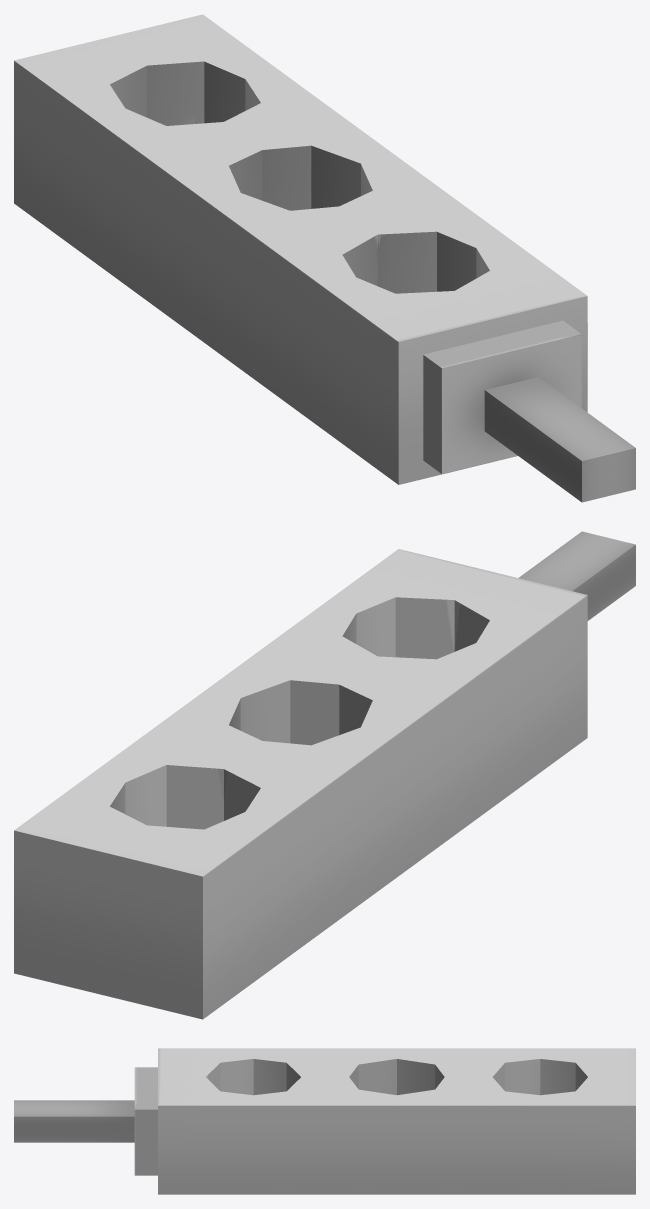
File: Multitap0.FBX
The picture shows the model from 3 angles, top to bottom: view 1: azimuth 30°, elevation 25°; view 2: azimuth 150°, elevation 25°; view 3: azimuth 270°, elevation 25°; orthographic projection. The views are drawn at different scales.
Parts seen in each view (by area): view 1: multitap0; view 2: multitap0; view 3: multitap0.
Boxes of the visible parts, left/top/right/bottom form: multitap0: left=14, top=14, right=635, bottom=502; multitap0: left=14, top=531, right=635, bottom=1019; multitap0: left=14, top=1048, right=635, bottom=1194.
Bounding box in the file's own units: 2.42 × 1.75 × 11.12.
Materials: 1 (1 with a texture image).
